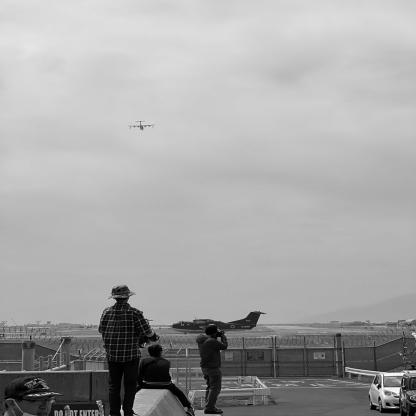US2: (169, 312, 268, 336), (128, 121, 157, 132)
